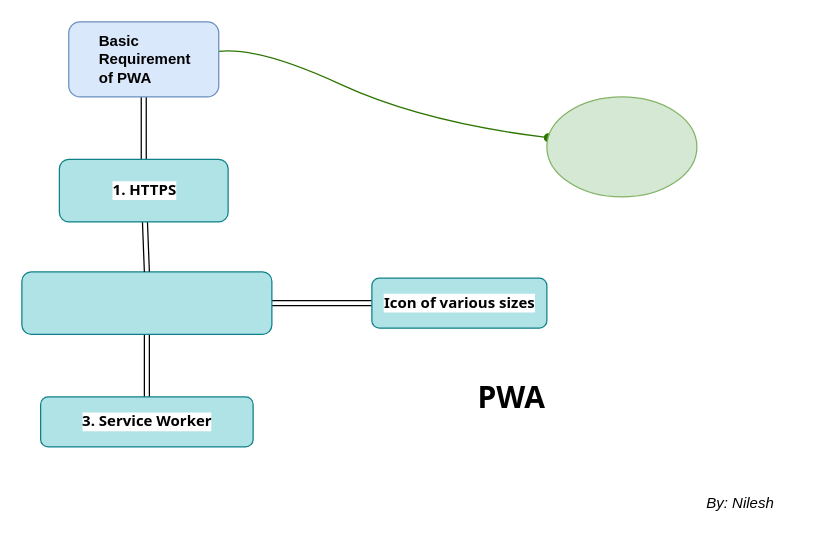
Some shapes in this 819 by 544 pixel diagram are drawn without their labels. The shapes that lost their labels are listed below. From the top down, each one's box as (x1, y1, x2, y2) in pixels, then its label:
(546, 96, 697, 197): Optional Favicon.ico
(21, 271, 272, 334): 2. Manifest.json File
